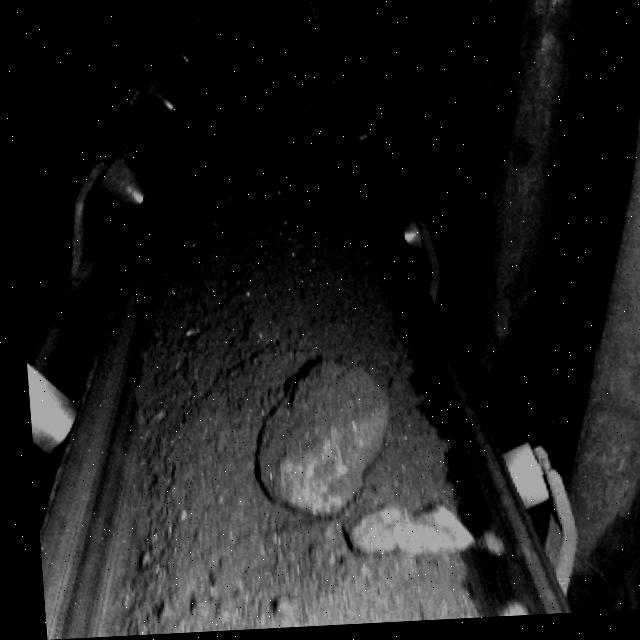large_sized_coal: (247, 368, 391, 516), (343, 506, 458, 567)
